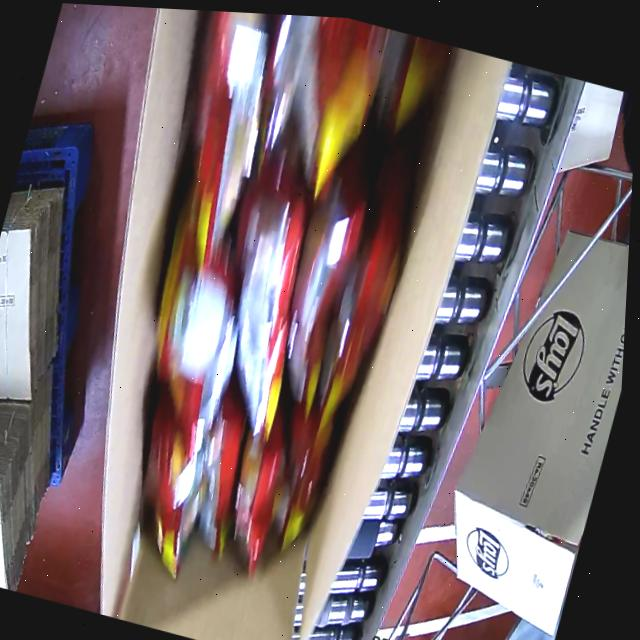MASALA: (90, 6, 454, 591)
